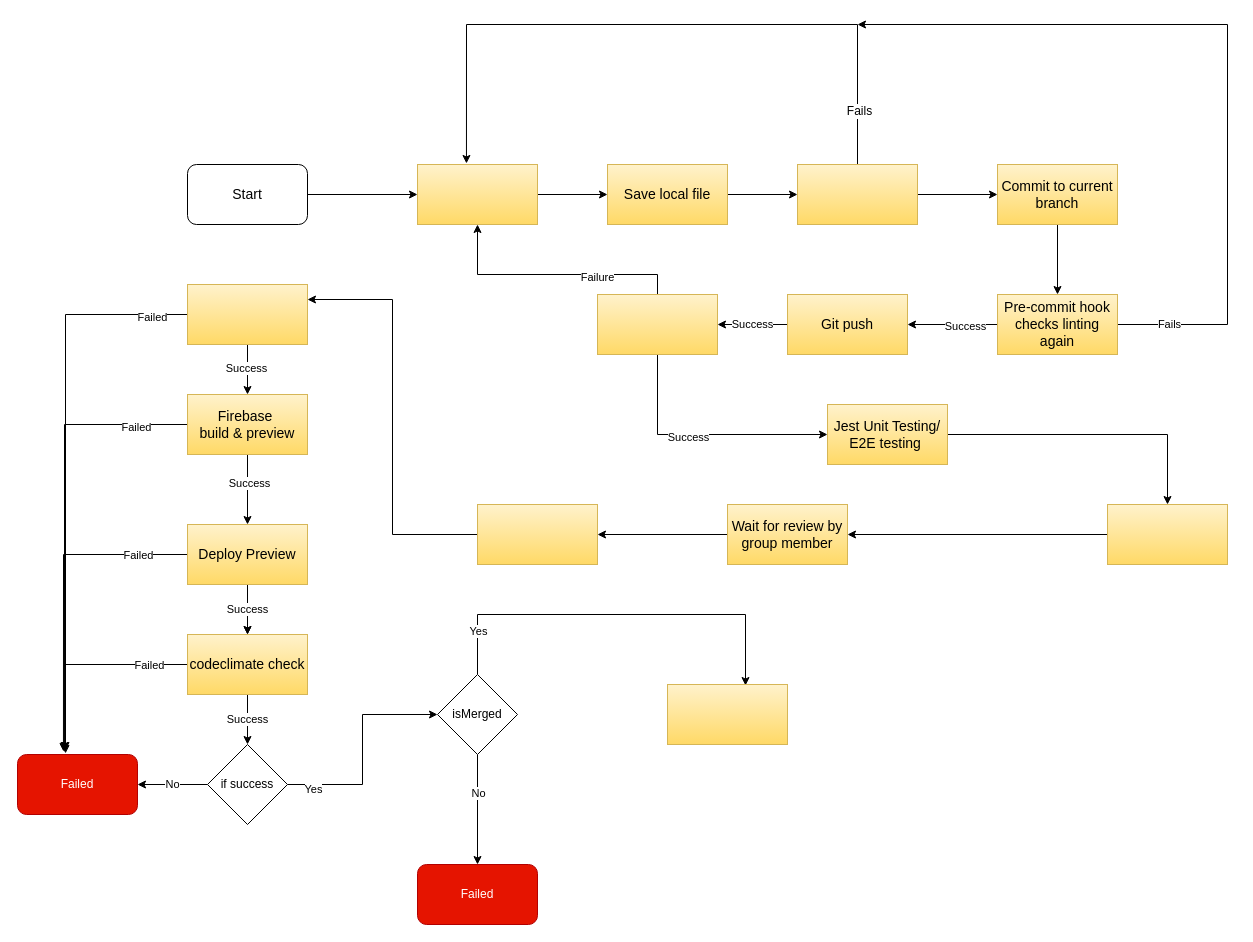
This 1253x942 diagram has some shape labels left out. Each missing label, with the centre of its shape:
CI / build: [247,314]
Code on local: [477,194]
Create Pull request to update Main: [1167,534]
ESLint check runs: [857,194]
JSDocs generation: [727,714]
Linting checked again via Github Actions: [657,324]
Merge with main: [537,534]
